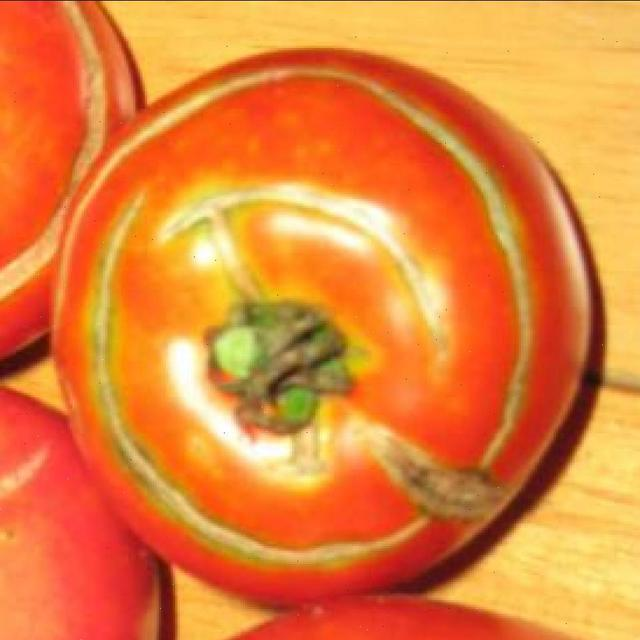Cracking Fruit: (178, 133, 330, 341)
